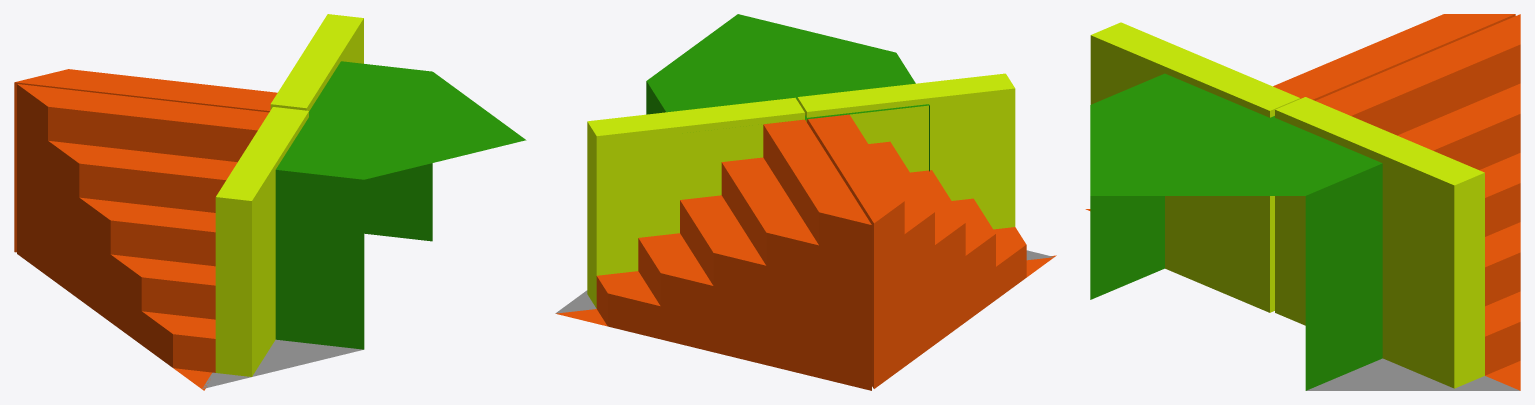
3 renders of one model, left to right at view 1: azimuth 30°, elevation 25°; view 2: azimuth 150°, elevation 25°; view 3: azimuth 270°, elevation 25°, orthographic. The views are drawn at different scales.
Visible parts, largest first — view 1: T_a_9_0; view 2: T_a_9_0; view 3: T_a_9_0.
Boxes of the visible parts, x1=… form: T_a_9_0: x1=14, y1=14, x2=526, y2=390; T_a_9_0: x1=555, y1=14, x2=1056, y2=390; T_a_9_0: x1=1085, y1=14, x2=1520, y2=390.
Size of the model in its own units: 99.81 by 51.98 by 101.
